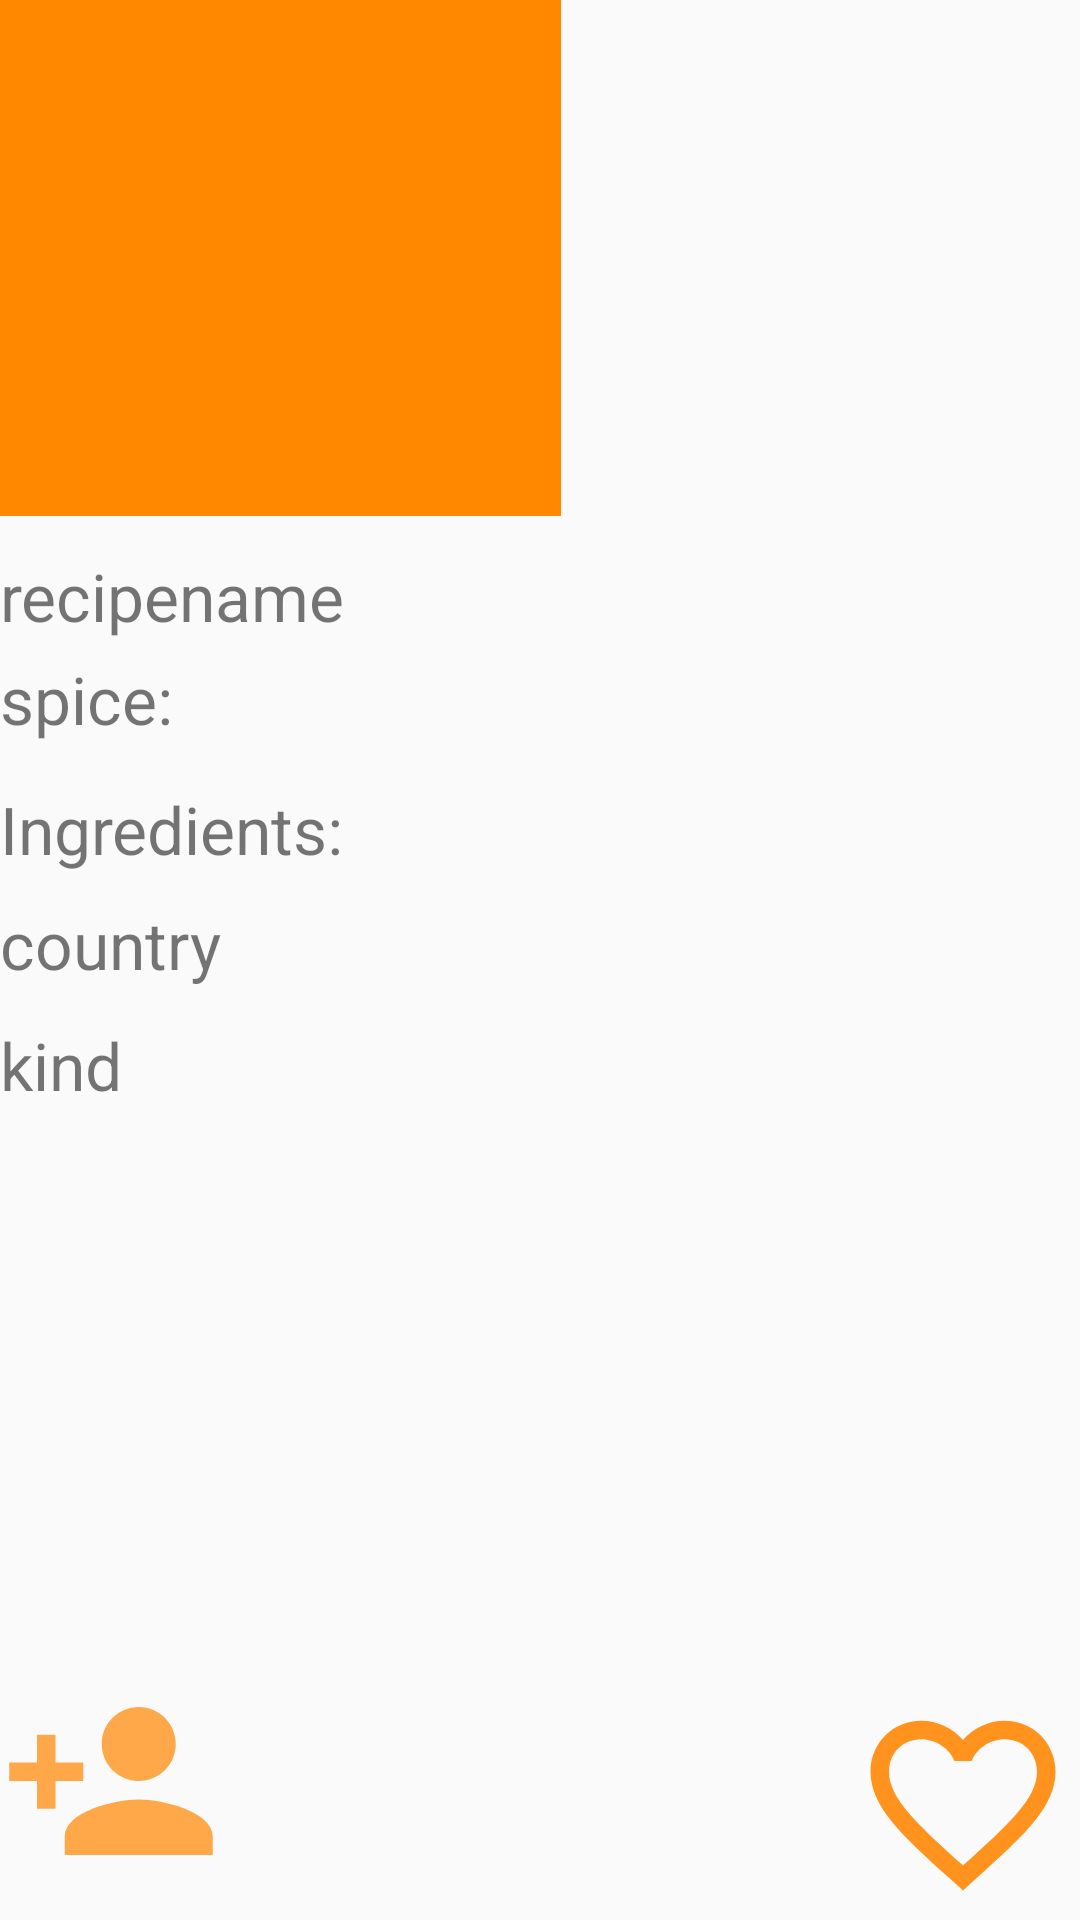

Screen size 1080*1920. Icon name, then its center in pixels as [x,y]:
person add: [111,1781]
unlike: [963,1805]
